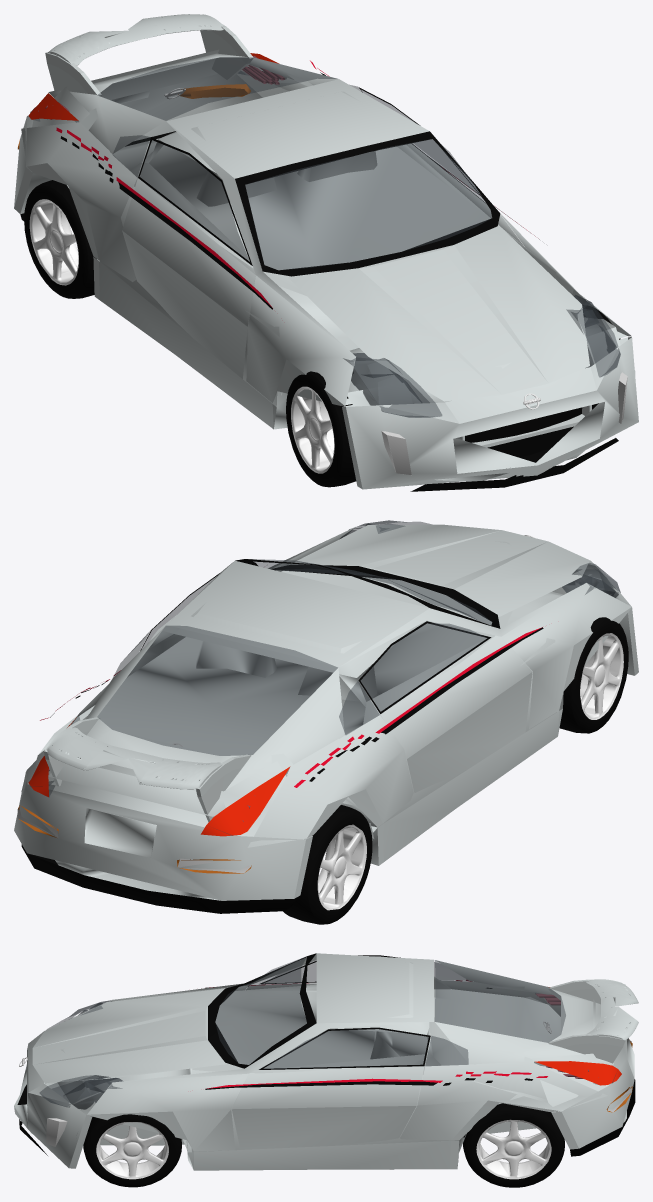
3 renders of one model, top to bottom at view 1: azimuth 30°, elevation 25°; view 2: azimuth 150°, elevation 25°; view 3: azimuth 270°, elevation 25°, orthographic. The views are drawn at different scales.
Parts seen in each view (by area): view 1: Plane.001_2_872, DEF-Body_3_873, wheel_rr, wheel_fr, Plane_906; view 2: Plane.001_2_872, DEF-Body_3_873, wheel_rr, wheel_fr, Plane_906; view 3: Plane.001_2_872, DEF-Body_3_873, wheel_rl, wheel_fl, Plane.001_907.
Boxes of the visible parts, x1,y1,x2,y2 form: Plane.001_2_872: (14, 14, 638, 489); DEF-Body_3_873: (17, 53, 627, 491); wheel_rr: (24, 180, 96, 298); wheel_fr: (286, 371, 356, 487); Plane_906: (56, 127, 272, 309); Plane.001_2_872: (14, 524, 638, 900); DEF-Body_3_873: (17, 520, 620, 913); wheel_rr: (283, 805, 372, 924); wheel_fr: (559, 617, 628, 733); Plane_906: (294, 627, 543, 787); Plane.001_2_872: (14, 953, 638, 1170); DEF-Body_3_873: (17, 953, 635, 1156); wheel_rl: (463, 1103, 564, 1187); wheel_fl: (83, 1114, 181, 1187); Plane.001_907: (205, 1071, 547, 1089).
Size of the model in its own units: 1.7 by 1.19 by 4.32.
